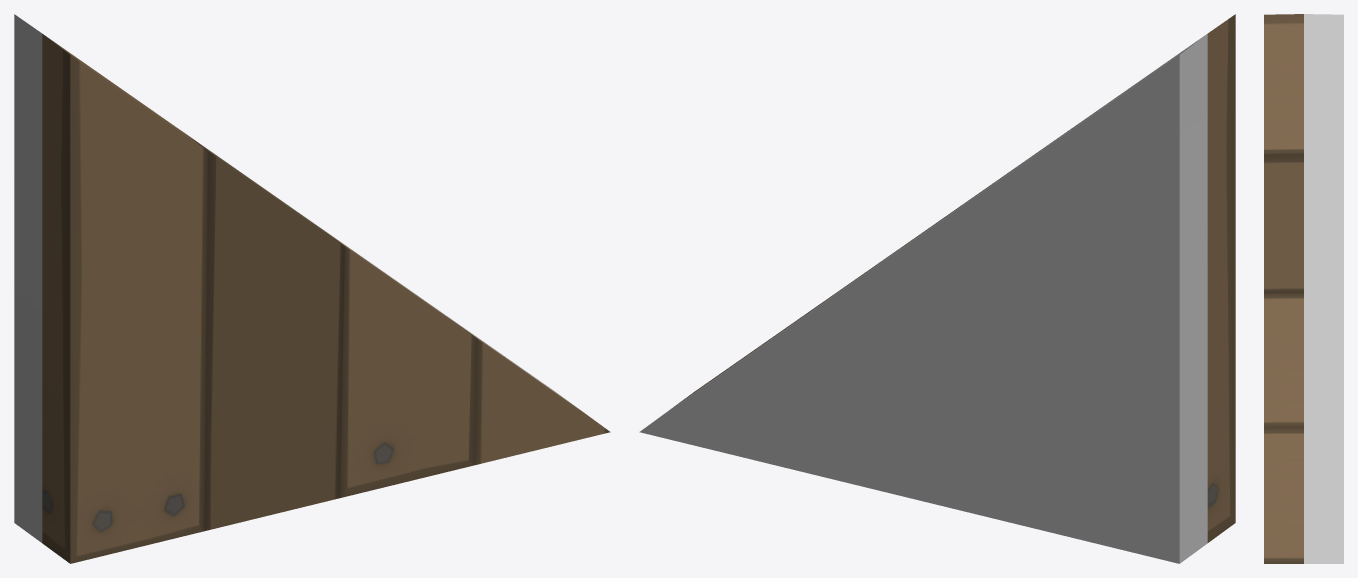
The model's file is SM_Bld_Villa_Wall_Angle_01.fbx.
The picture shows the model from 3 angles, left to right: view 1: azimuth 30°, elevation 25°; view 2: azimuth 150°, elevation 25°; view 3: azimuth 270°, elevation 25°; orthographic projection. The views are drawn at different scales.
Parts seen in each view (by area): view 1: SM_Bld_Villa_Wall_Angle_01; view 2: SM_Bld_Villa_Wall_Angle_01; view 3: SM_Bld_Villa_Wall_Angle_01.
Part boxes in pixels (bbox=[...]): SM_Bld_Villa_Wall_Angle_01: bbox=[14, 14, 610, 563]; SM_Bld_Villa_Wall_Angle_01: bbox=[639, 14, 1235, 563]; SM_Bld_Villa_Wall_Angle_01: bbox=[1264, 14, 1343, 563].
Bounding box in the file's own units: 125 × 113 × 22.5.
